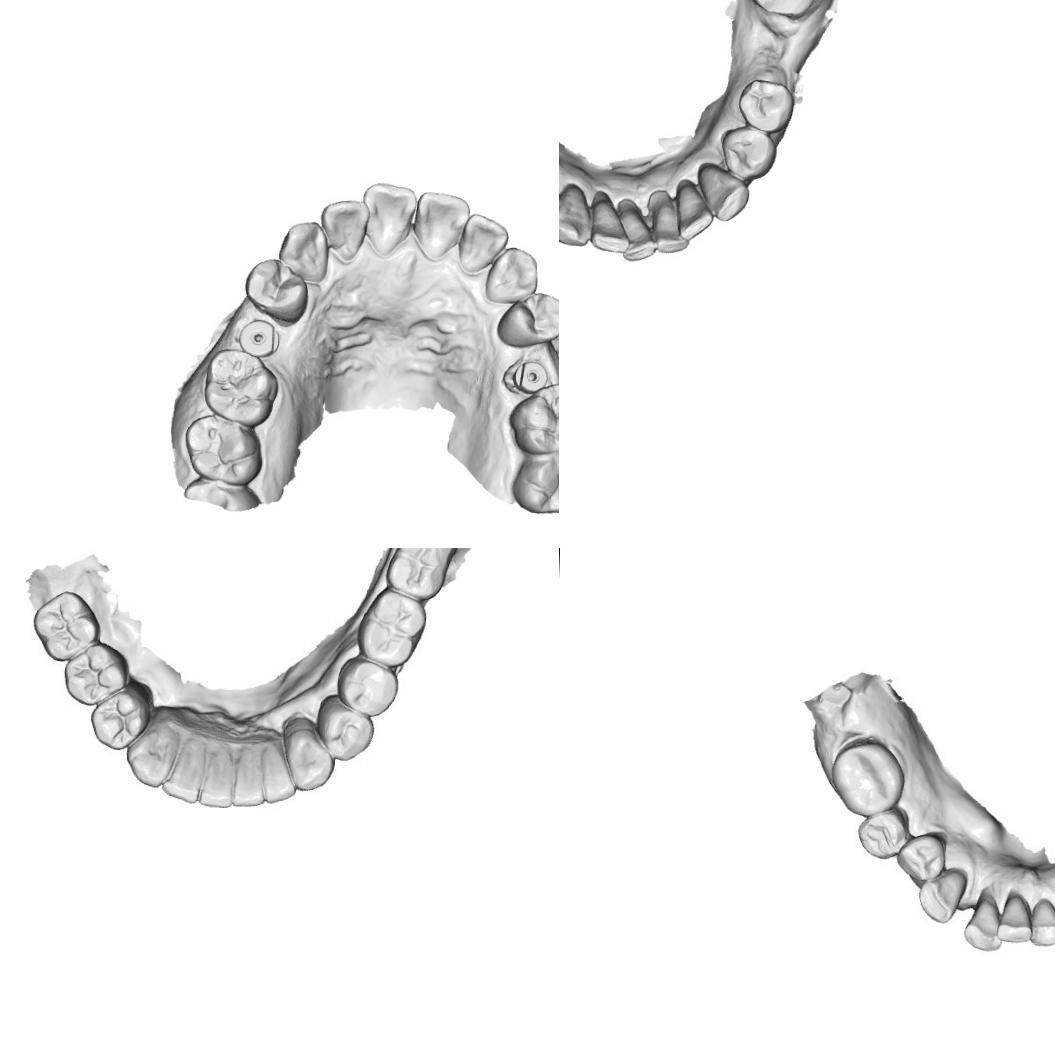canine: (283, 726, 337, 794), (276, 219, 330, 286), (694, 162, 752, 224), (484, 246, 540, 306), (126, 725, 176, 791), (916, 866, 968, 926), (559, 181, 593, 250)
implant: (238, 317, 282, 359), (510, 358, 550, 395)
incisor: (359, 180, 418, 258), (412, 190, 472, 264), (318, 198, 370, 266), (456, 212, 510, 276), (164, 732, 206, 805), (672, 182, 718, 243), (586, 198, 633, 256), (262, 740, 300, 806), (197, 742, 234, 808), (232, 748, 270, 812), (619, 206, 660, 263), (650, 201, 691, 256), (967, 892, 1006, 948), (1001, 888, 1035, 940), (1027, 896, 1055, 942)
molar: (824, 736, 904, 818), (202, 346, 280, 428), (182, 413, 264, 488), (356, 588, 430, 668), (31, 588, 99, 660), (506, 379, 559, 456), (388, 548, 462, 602), (510, 443, 559, 517), (746, 0, 824, 19)
premolar: (61, 642, 135, 709), (242, 256, 308, 324), (495, 290, 559, 350), (316, 696, 376, 760), (734, 76, 797, 136), (87, 688, 146, 752), (337, 656, 398, 714), (718, 124, 777, 183), (894, 830, 949, 886), (854, 809, 912, 861)
